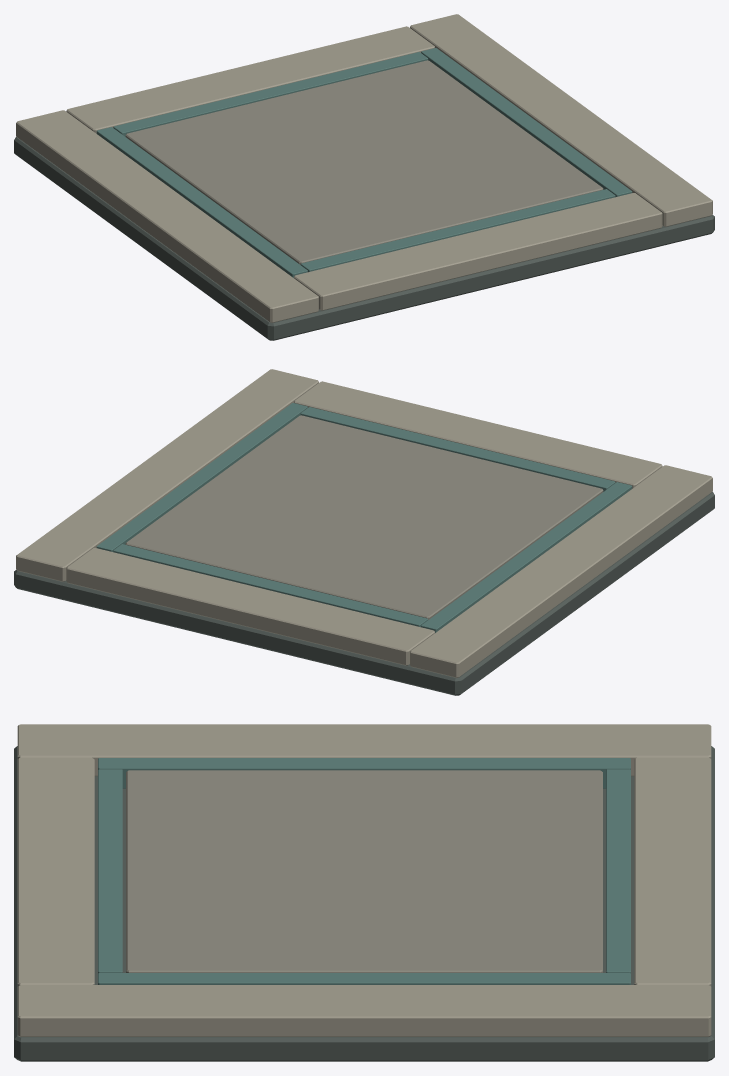
The model's file is paving-inset.glb.
3 renders of one model, top to bottom at view 1: azimuth 30°, elevation 25°; view 2: azimuth 150°, elevation 25°; view 3: azimuth 270°, elevation 25°, orthographic. The views are drawn at different scales.
Parts seen in each view (by area): view 1: paving-inset__body; view 2: paving-inset__body; view 3: paving-inset__body.
Part boxes in pixels (bbox=[...]): paving-inset__body: bbox=[14, 14, 714, 340]; paving-inset__body: bbox=[14, 369, 714, 695]; paving-inset__body: bbox=[14, 724, 714, 1061].
Bounding box in the file's own units: 2 × 0.14 × 2.
